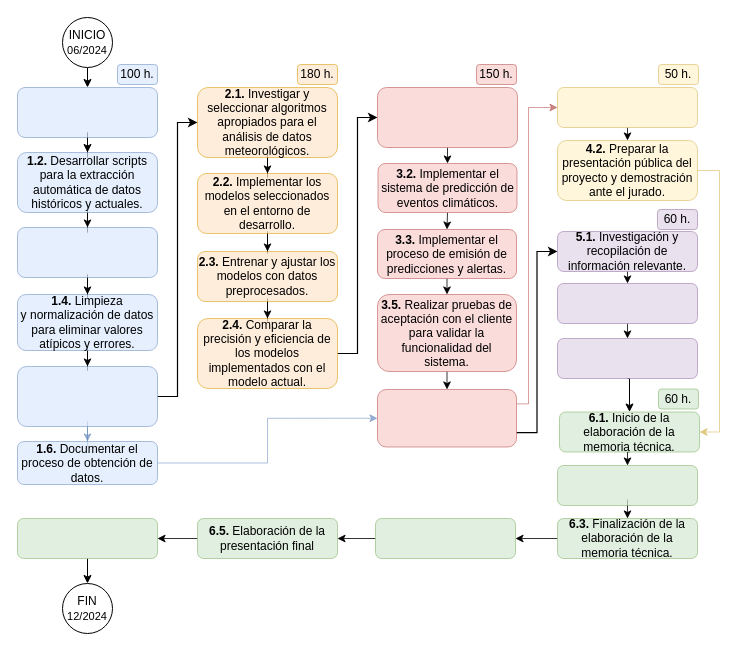
Some shapes in this 745 by 651 pixel diagram are drawn without their labels. The box of each missing label's shape, as (x1, y1, x2, y2) in pixels:
1.1. Definir y establecer la conexión con la base de datos de la DINAC.: (17, 87, 157, 137)
1.3. V alidar la integridad y calidad de los datos recolectados.: (17, 227, 157, 277)
1.5. A plicación de técnicas de imputación para manejar datos faltantes .: (17, 366, 157, 426)
3.1. D iseñar la arquitectura del sistema de predicción de eventos climáticos.: (377, 87, 517, 147)
3.4. E laborar la documentación técnica del sistema y los manuales de usuario.: (377, 389, 516, 447)
4.1. G estionar riesgos y problemas durante el desarrollo del proyecto.: (557, 87, 697, 127)
5.2. R edacción del artículo científico.: (557, 283, 697, 323)
5.3. Revisión y corrección del artículo científico.: (557, 338, 697, 378)
6.2. R evisión y correcciones de la memoria técnica.: (557, 465, 697, 505)
6.4. R evisión y correcciones de la memoria técnica final.: (375, 518, 515, 558)
6.6. R evisión y correcciones de la presentación final.: (17, 518, 157, 558)
